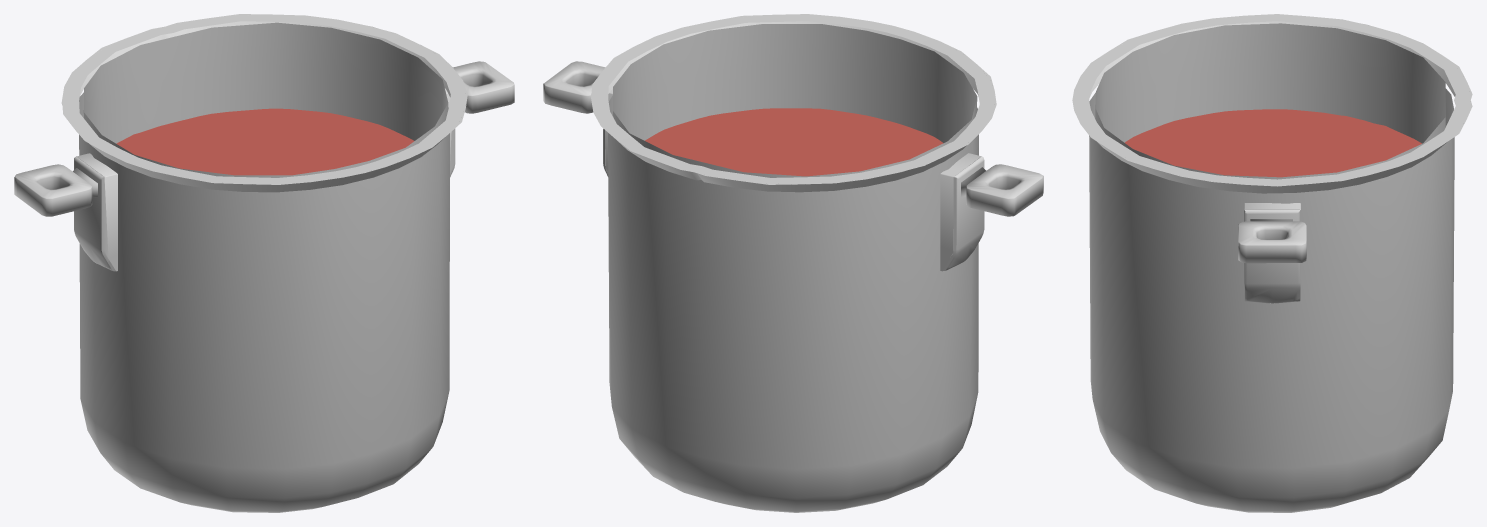
The model's file is potglb.glb.
The picture shows the model from 3 angles, left to right: view 1: azimuth 30°, elevation 25°; view 2: azimuth 150°, elevation 25°; view 3: azimuth 270°, elevation 25°; orthographic projection.
Parts seen in each view (by area): view 1: Retopo_pan__0.004; view 2: Retopo_pan__0.004; view 3: Retopo_pan__0.004.
Boxes of the visible parts, <box> form: Retopo_pan__0.004: <box>14,14,514,512</box>; Retopo_pan__0.004: <box>543,14,1043,512</box>; Retopo_pan__0.004: <box>1072,14,1472,512</box>.
Bounding box in the file's own units: 0.7826 × 0.5689 × 0.577.
